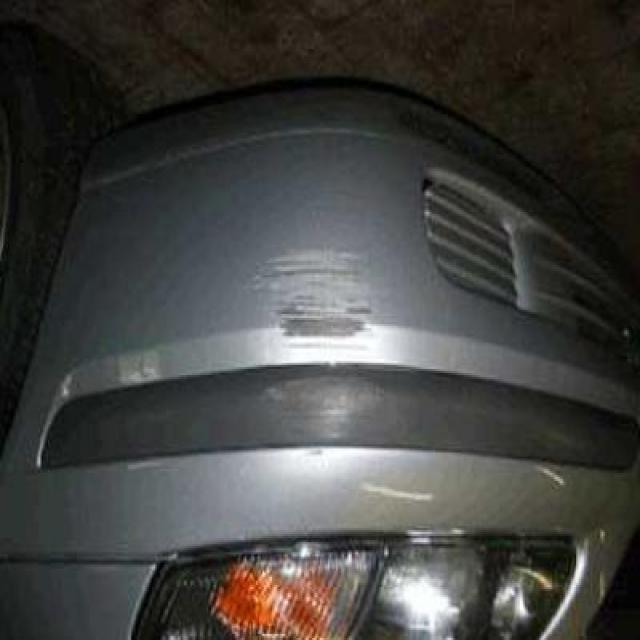scratch: (245, 235, 373, 346), (258, 372, 390, 452)
